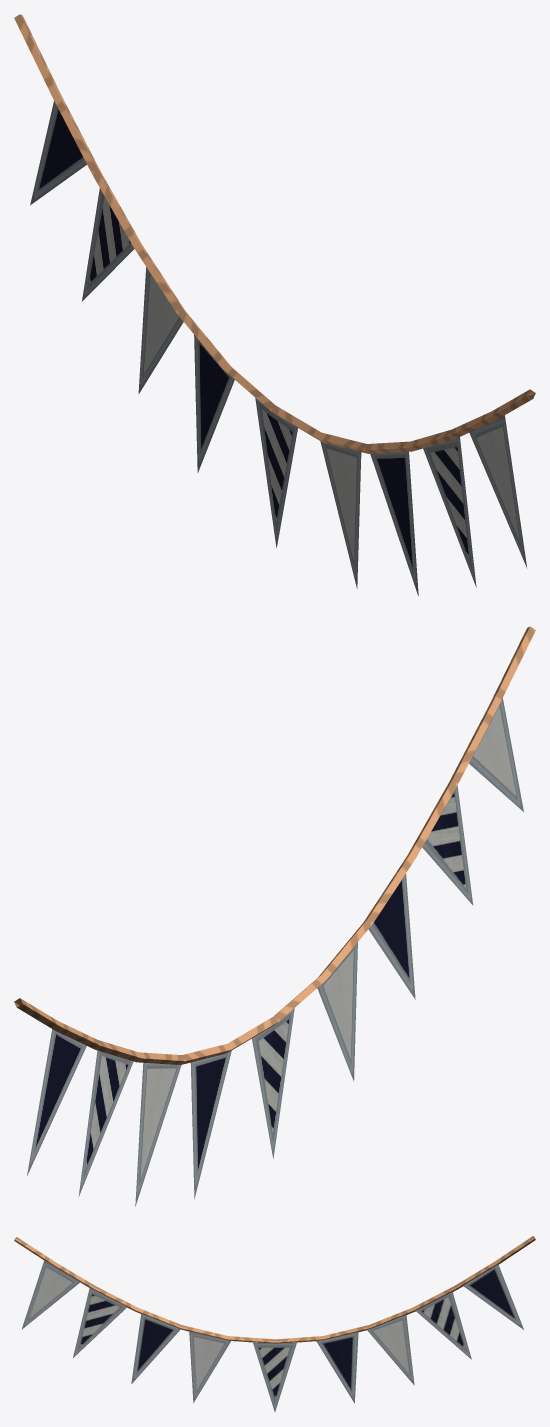
Rendered from Small_flags_2.fbx.
The picture shows the model from 3 angles, top to bottom: view 1: azimuth 30°, elevation 25°; view 2: azimuth 150°, elevation 25°; view 3: azimuth 270°, elevation 25°; orthographic projection. The views are drawn at different scales.
Visible parts, largest first — view 1: pCube33; view 2: pCube33; view 3: pCube33.
Part boxes in pixels (x1,y1,x2,y2): pCube33: (14,14,535,596); pCube33: (14,626,535,1206); pCube33: (14,1236,535,1411).
Bounding box in the file's own units: 2 × 74.99 × 201.
